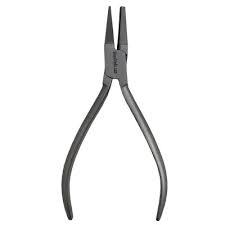pliers: (60, 4, 168, 221)
